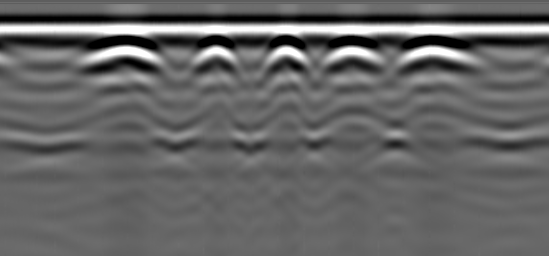steel: (84, 36, 167, 70), (401, 37, 476, 72), (323, 35, 387, 72), (260, 37, 310, 73), (188, 37, 241, 70)
